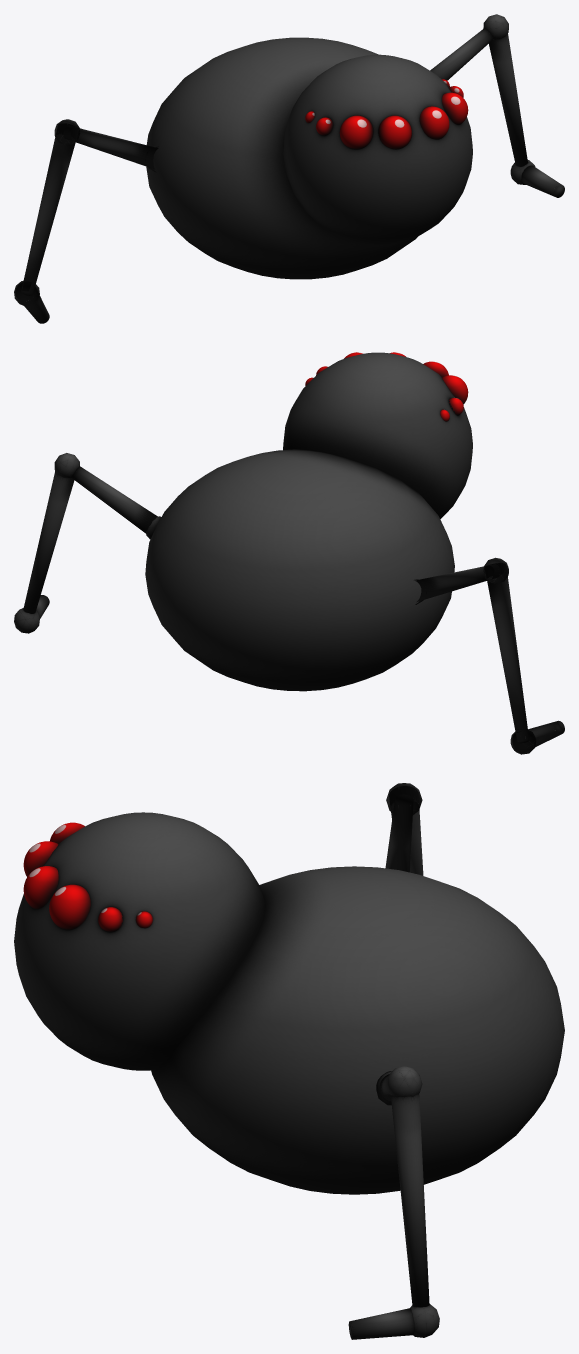
Rendered from Spider.obj.
3 views of the same model, one above another, from view 1: azimuth 30°, elevation 25°; view 2: azimuth 150°, elevation 25°; view 3: azimuth 270°, elevation 25° (orthographic). The views are drawn at different scales.
Visible parts, largest first — view 1: Body, Reg.R.1, Leg.L.1, Reg.R.0, Leg.L.0, Leg.L.2, Reg.R.2; view 2: Body, Reg.R.1, Leg.L.1, Leg.L.0, Reg.R.0, Reg.R.2, Leg.L.2; view 3: Body, Leg.L.1, Leg.L.2, Reg.R.0, Reg.R.1.
Part boxes in pixels (x1,y1,x2,y2): Body: (146,37,472,279); Reg.R.1: (21,119,80,295); Leg.L.1: (483,14,527,166); Reg.R.0: (63,125,158,172); Leg.L.0: (430,28,492,80); Leg.L.2: (510,160,564,197); Reg.R.2: (14,280,49,323); Body: (145,352,472,691); Reg.R.1: (483,557,529,743); Leg.L.1: (23,453,79,613); Leg.L.0: (72,466,161,539); Reg.R.0: (414,564,500,604); Reg.R.2: (510,720,564,754); Leg.L.2: (14,595,49,633); Body: (14,812,564,1194); Leg.L.1: (386,1066,429,1307); Leg.L.2: (348,1304,439,1339); Reg.R.0: (385,794,413,872); Reg.R.1: (386,783,423,875).
Size of the model in its own units: 10.87 by 5.04 by 7.24.
Materials: 7 (7 with a texture image).
